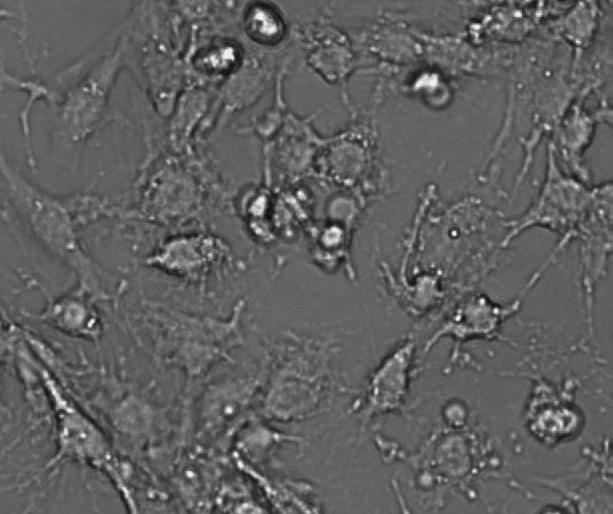Dead: (187, 33, 244, 73), (274, 183, 316, 236), (243, 1, 291, 46), (431, 434, 476, 479), (532, 408, 564, 446), (313, 244, 352, 275), (556, 402, 587, 439), (438, 397, 472, 428), (249, 187, 276, 222), (423, 80, 455, 109), (408, 66, 441, 92), (318, 222, 349, 249), (412, 466, 437, 489)
